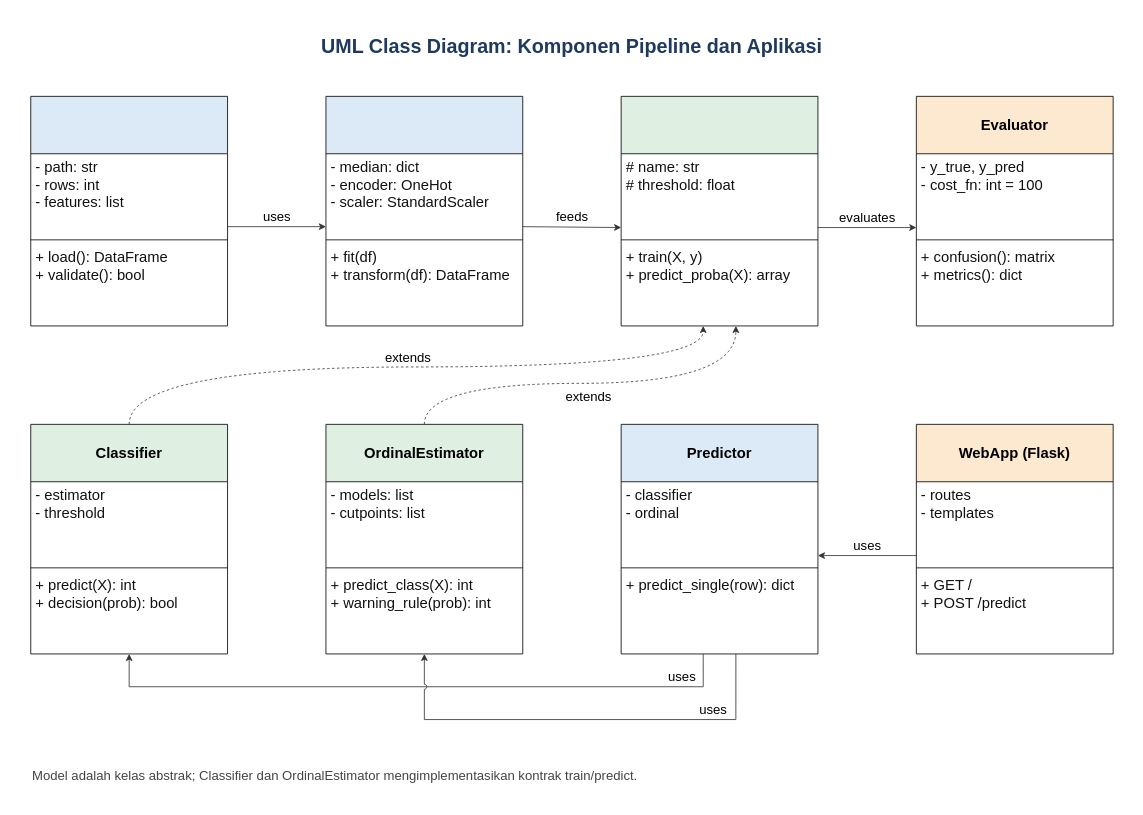
Some shapes in this 1143 by 815 pixel diagram are drawn without their labels. The box of each missing label's shape, as (x1, y1, x2, y2) in pixels:
<<abstract>> Model: (620, 96, 818, 326)
Dataset: (30, 96, 228, 326)
Preprocessor: (325, 96, 523, 326)
